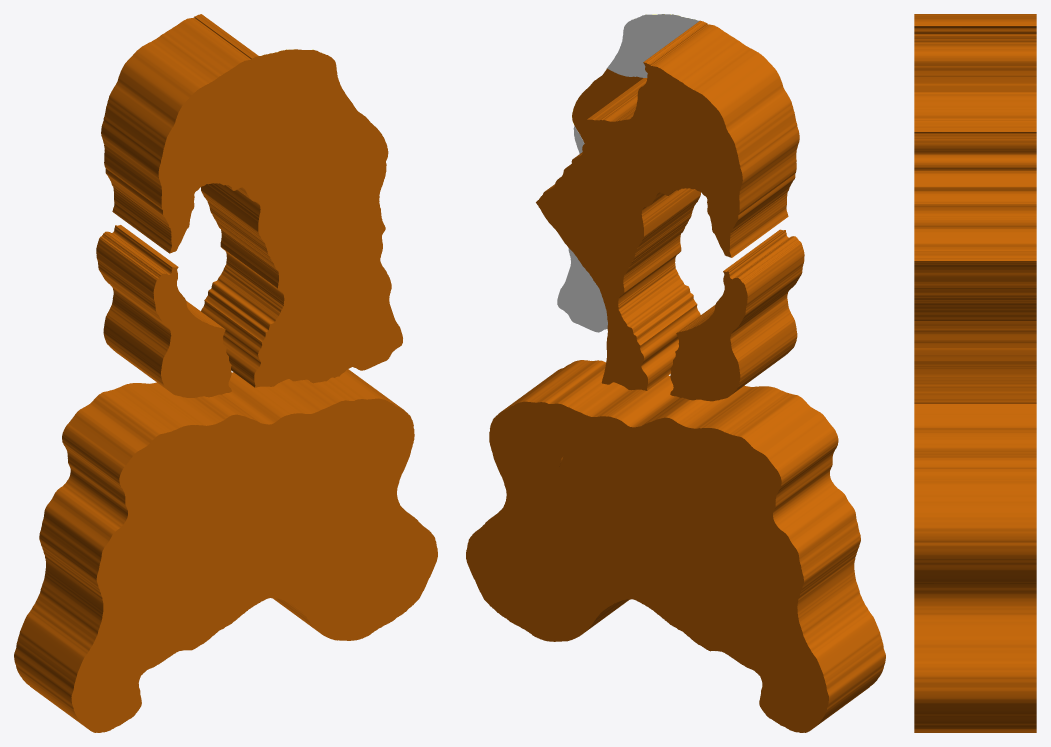
The model's file is anna_level1floor2.fbx.
The picture shows the model from 3 angles, left to right: view 1: azimuth 30°, elevation 25°; view 2: azimuth 150°, elevation 25°; view 3: azimuth 270°, elevation 25°; orthographic projection. The views are drawn at different scales.
Visible parts, largest first — view 1: Model; view 2: Model; view 3: Model.
Part boxes in pixels (bbox=[...]): Model: bbox=[14, 14, 437, 732]; Model: bbox=[466, 14, 885, 732]; Model: bbox=[914, 14, 1036, 732].
Size of the model in its own units: 3.14 by 5.22 by 0.851.
